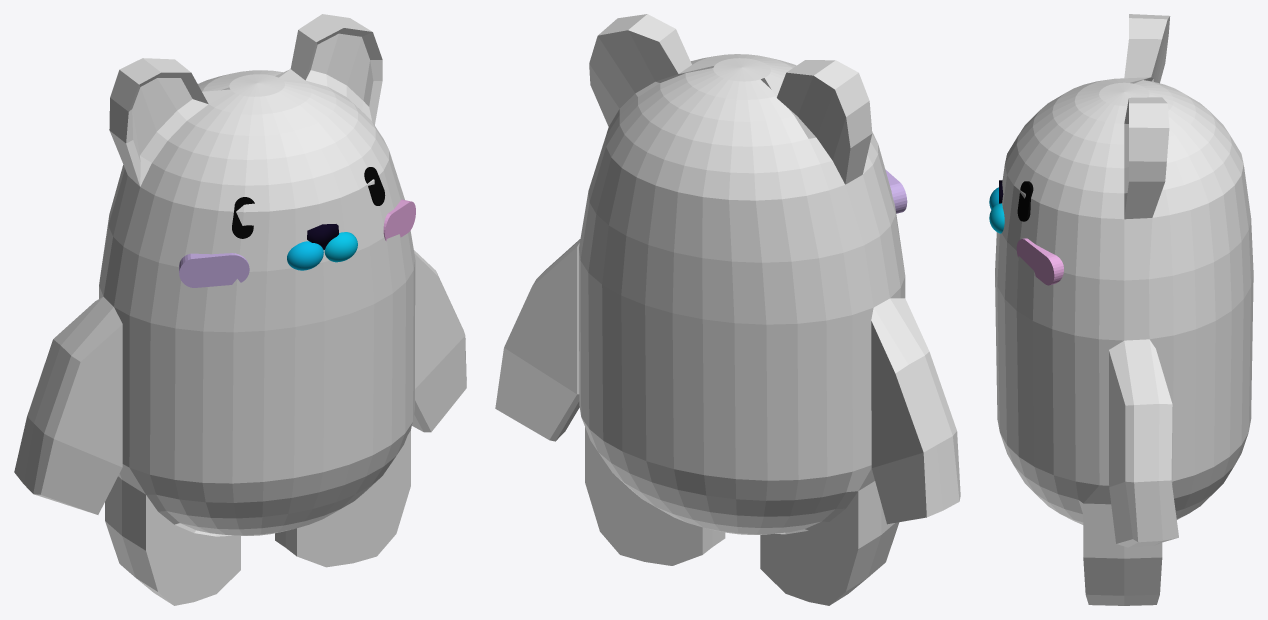
The model's file is Doralie.glb.
3 renders of one model, left to right at view 1: azimuth 30°, elevation 25°; view 2: azimuth 150°, elevation 25°; view 3: azimuth 270°, elevation 25°, orthographic. The views are drawn at different scales.
Parts seen in each view (by area): view 1: Sphere, Cylinder, Cylinder.001, Sphere.002, Sphere.001; view 2: Sphere; view 3: Sphere, Cylinder.001, Cylinder.002, Sphere.001.
Boxes of the visible parts, x1,y1,x2,y2 form: Sphere: [14, 14, 466, 605]; Cylinder: [179, 253, 249, 287]; Cylinder.001: [383, 199, 415, 241]; Sphere.002: [287, 241, 323, 270]; Sphere.001: [324, 232, 357, 262]; Sphere: [495, 14, 960, 605]; Sphere: [995, 14, 1253, 605]; Cylinder.001: [1016, 238, 1063, 285]; Cylinder.002: [1017, 181, 1033, 221]; Sphere.001: [989, 203, 1004, 233].
Size of the model in its own units: 3.72 by 4.25 by 2.04.
